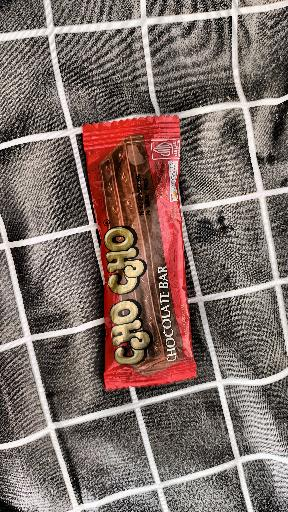chocho: (45, 98, 229, 415)
